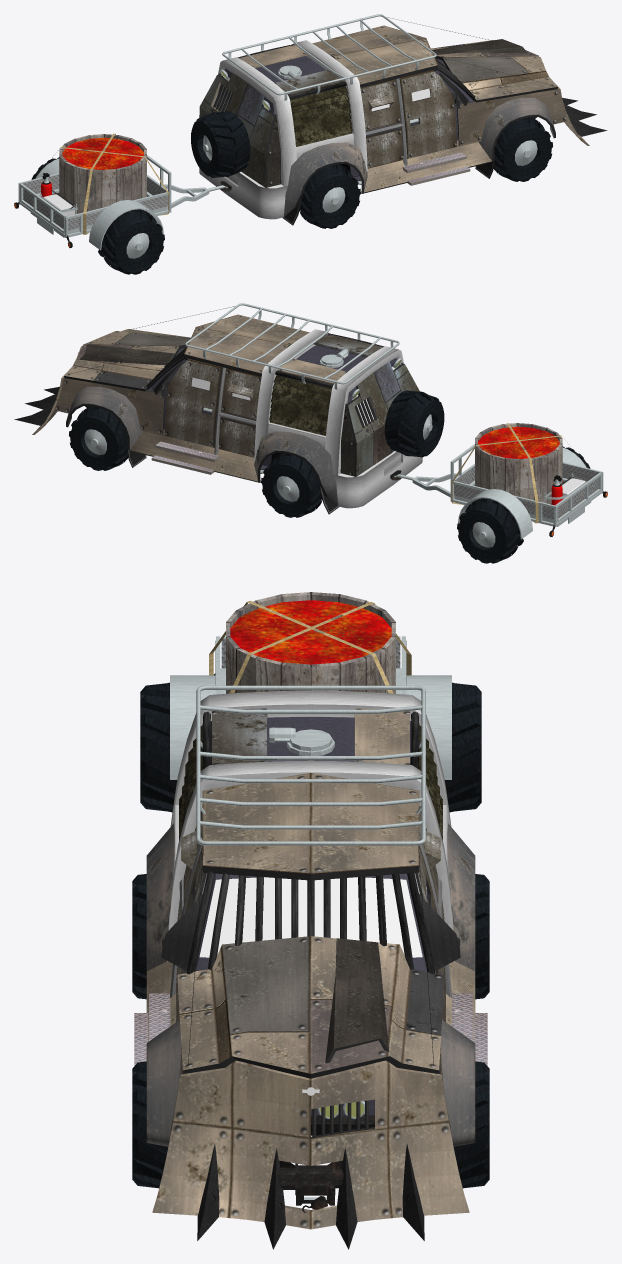
Rendered from vehicle_armor.obj.
3 views of the same model, one above another, from view 1: azimuth 30°, elevation 25°; view 2: azimuth 150°, elevation 25°; view 3: azimuth 270°, elevation 25° (orthographic). The views are drawn at different scales.
Parts seen in each view (by area): view 1: VehiclePlating, VehicleMisc, TacoSause; view 2: VehiclePlating, VehicleMisc, TacoSause; view 3: VehiclePlating, VehicleMisc, TacoSause.
Part boxes in pixels (x1,y1,x2,y2): VehiclePlating: [199, 25, 607, 219]; VehicleMisc: [14, 14, 553, 274]; TacoSause: [62, 137, 143, 169]; VehiclePlating: [14, 314, 422, 508]; VehicleMisc: [57, 303, 607, 563]; TacoSause: [478, 426, 559, 458]; VehiclePlating: [134, 690, 487, 1249]; VehicleMisc: [132, 592, 489, 1212]; TacoSause: [230, 600, 391, 664].
Bounding box in the file's own units: 923 × 218 × 261.
4 materials, 3 textured.
